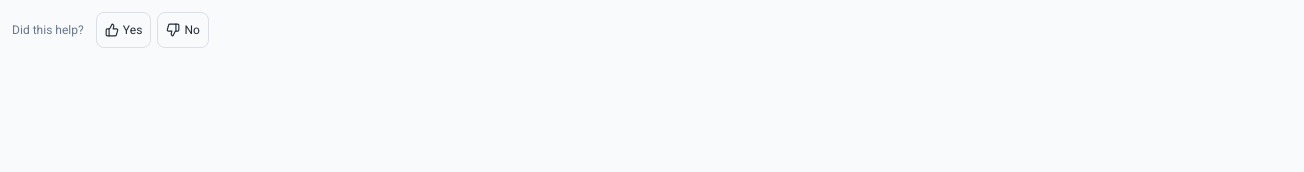
Test: DidThisHelp › transitions to thanks state on Yes click
Click the button "Yes": (124, 30) [96,12,152,48]
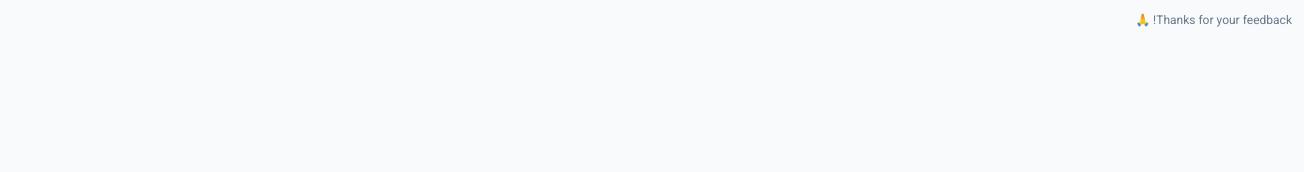
Now the text "Thanks for your feedback! 🙏" is shown, box [1135,11,1292,29]
